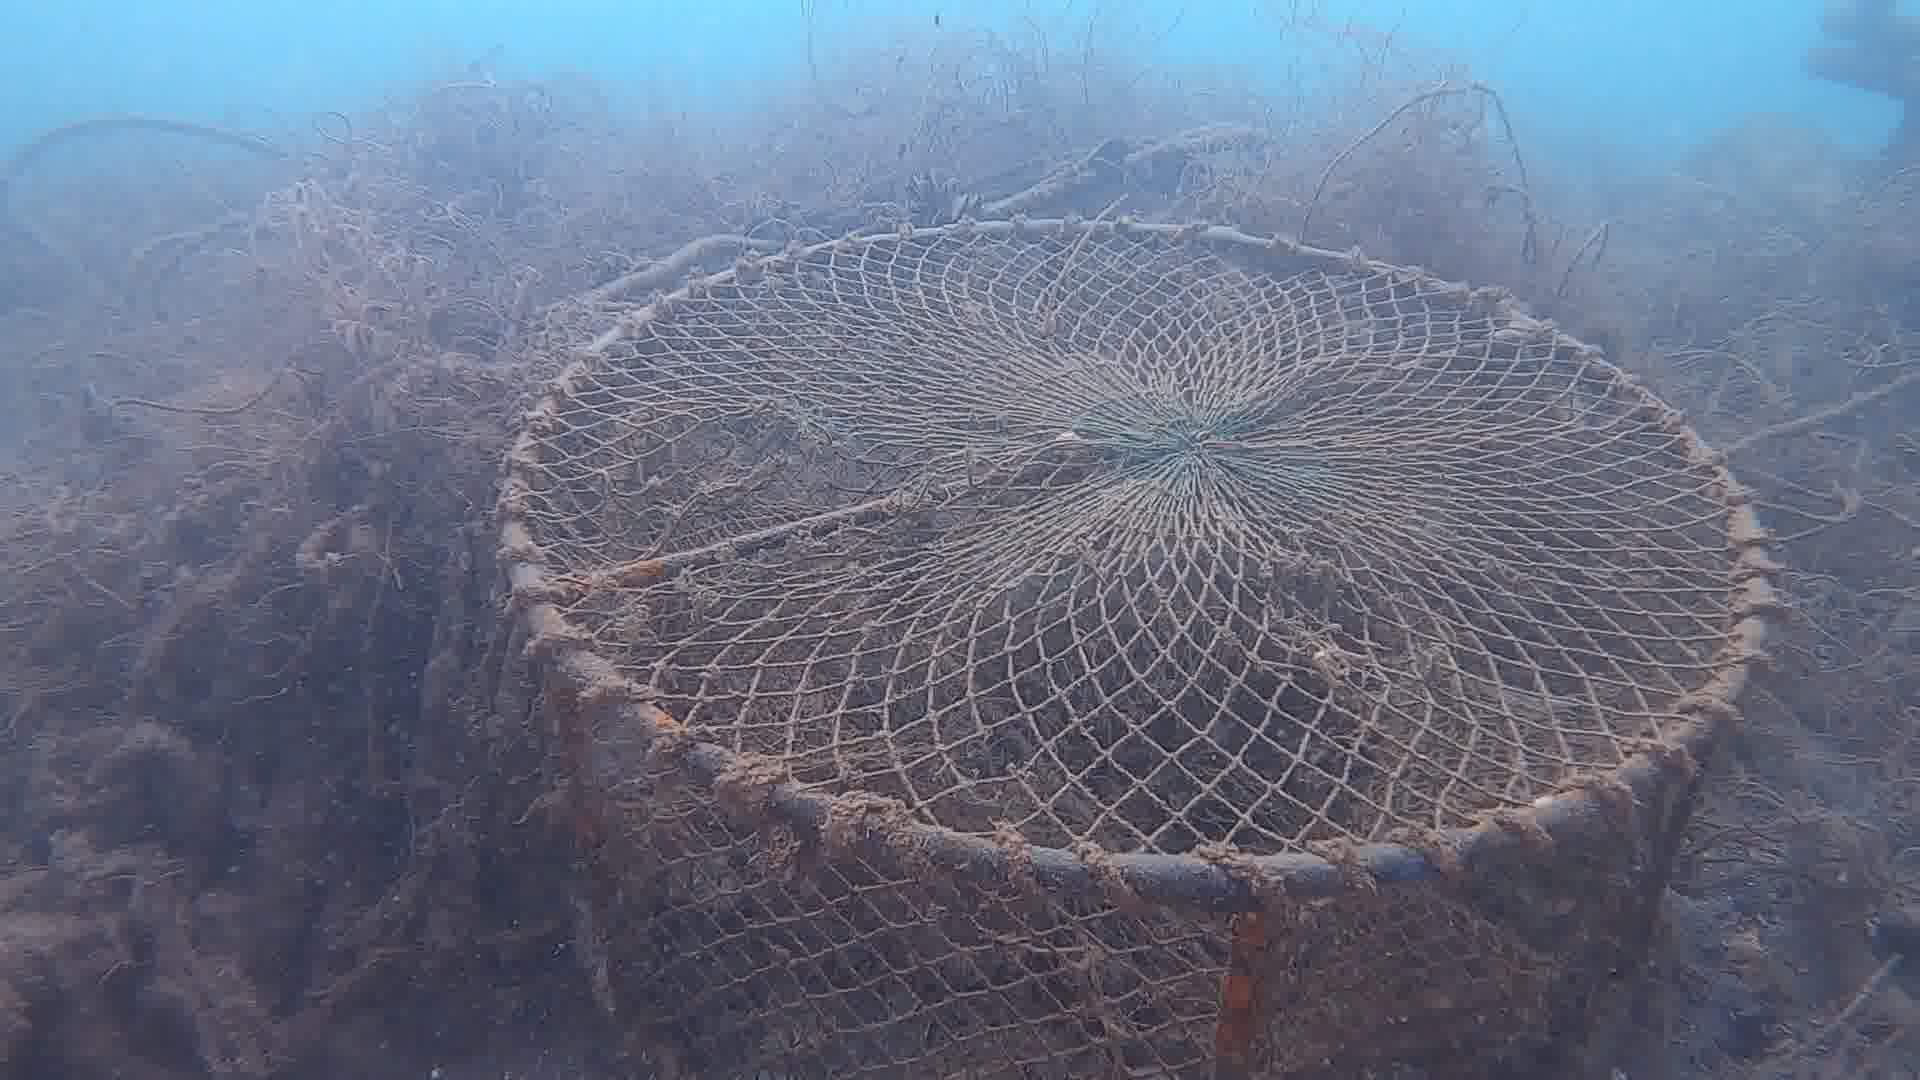circular fish trap: (498, 215, 1768, 1080)
